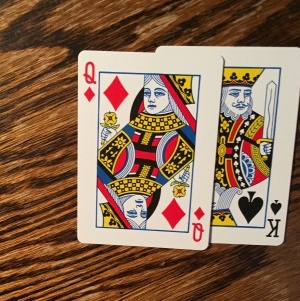card: (78, 52, 222, 249)
